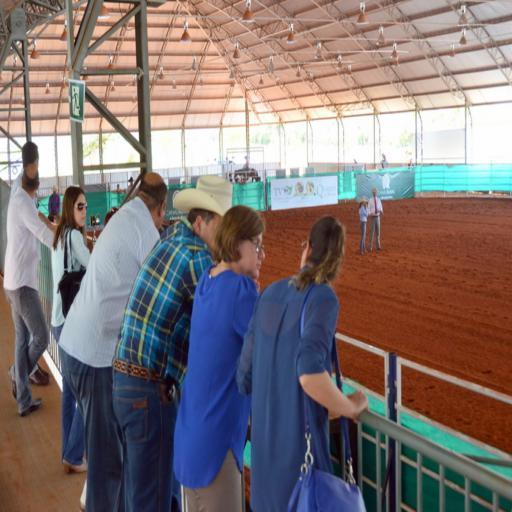horse: (233, 165, 259, 180)
